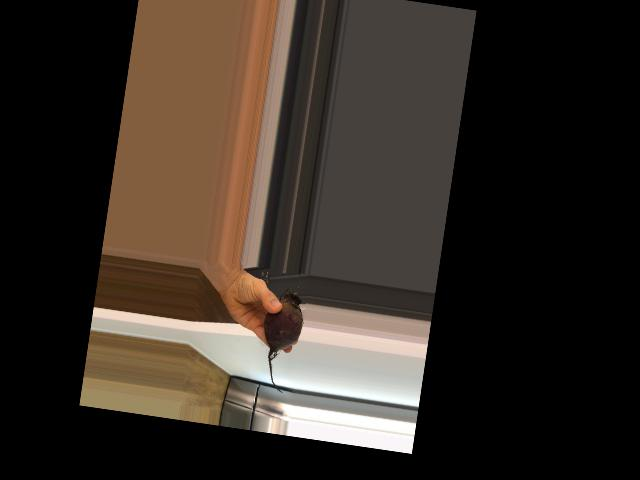beet: (255, 285, 307, 394)
